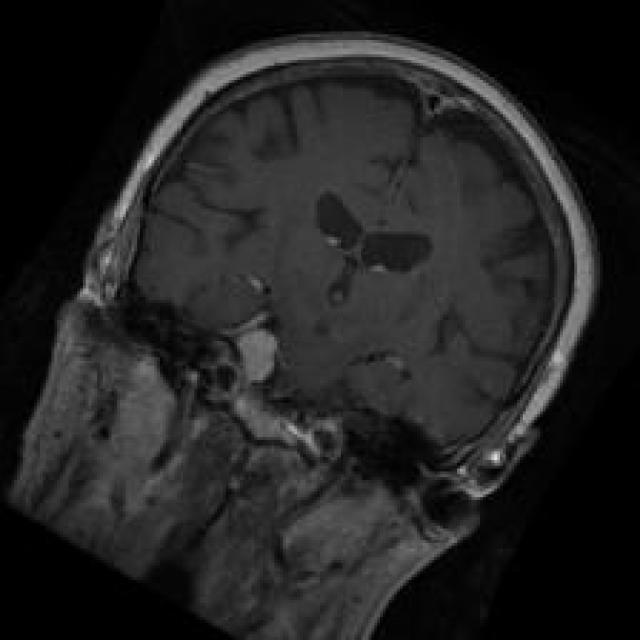meningioma_tumor: (219, 298, 303, 408)
